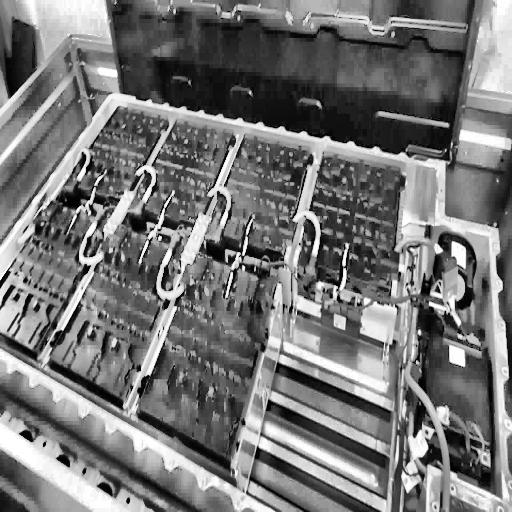high_volt_cable: (404, 329, 455, 512), (392, 229, 458, 280), (291, 208, 324, 274), (157, 242, 186, 302), (76, 218, 104, 267), (206, 186, 232, 234), (130, 164, 158, 201), (72, 147, 92, 184), (14, 222, 37, 246)
